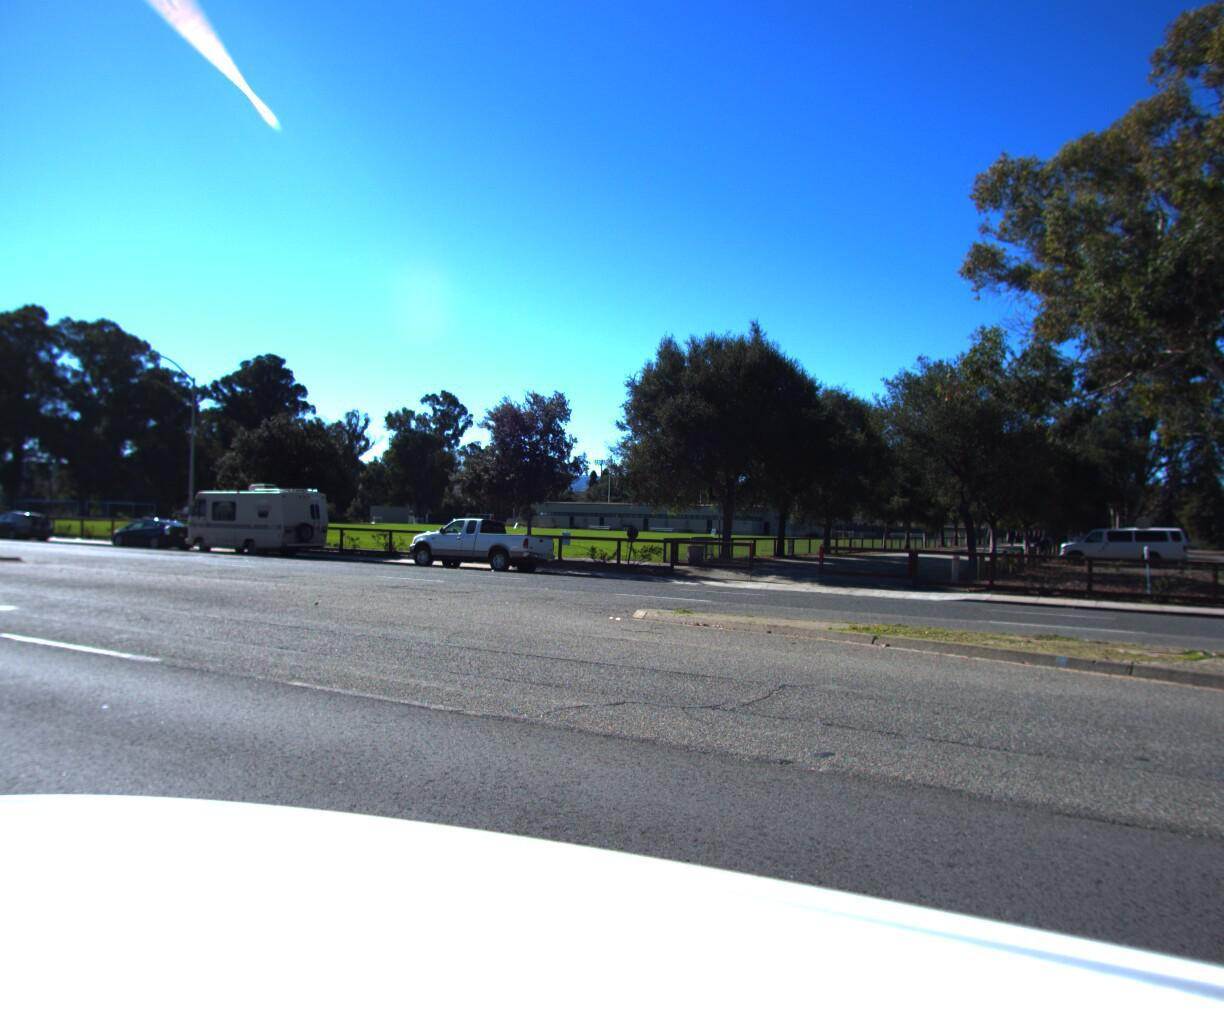car: (400, 509, 566, 575), (102, 514, 206, 547), (0, 507, 60, 538)
other_vehicle: (177, 475, 342, 553)
